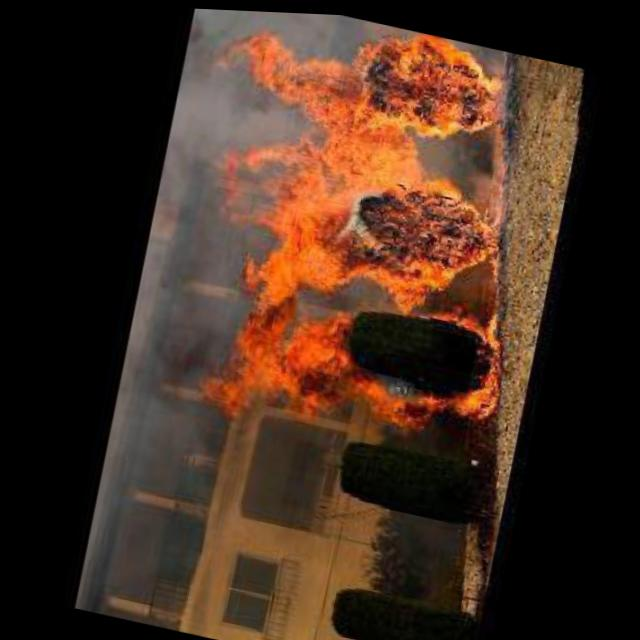Fire: (170, 6, 550, 454)
